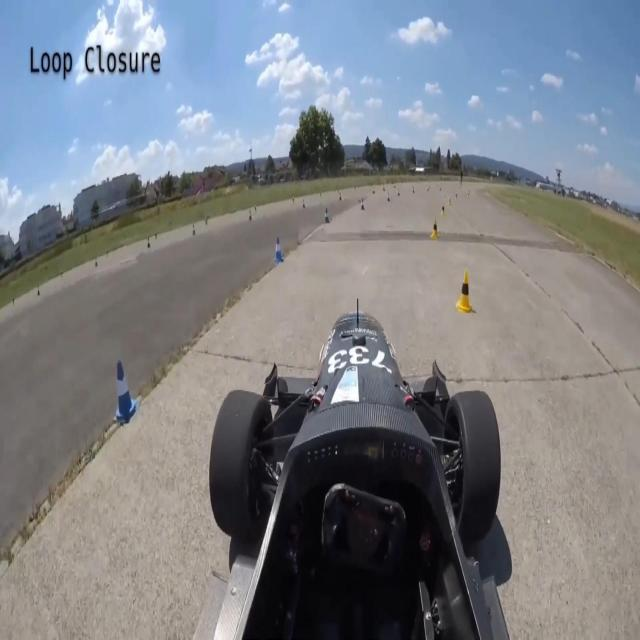blue_cone: (110, 356, 136, 427), (273, 235, 284, 267), (324, 203, 331, 228), (360, 196, 366, 210), (338, 190, 343, 202), (302, 199, 306, 209), (248, 211, 252, 221), (387, 192, 390, 202), (397, 188, 400, 198)
yellow_cone: (456, 272, 474, 318), (431, 219, 438, 242), (447, 196, 452, 208), (441, 206, 446, 217), (254, 205, 257, 214), (292, 196, 295, 204), (319, 190, 322, 198)
